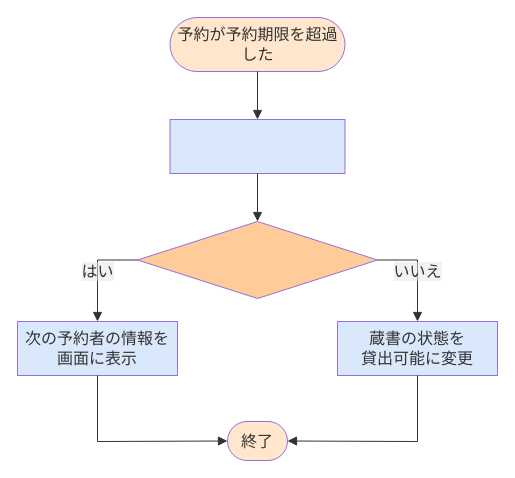
Some shapes in this 515 by 478 pixel diagram are drawn without their labels. Each missing label, with the centre of its shape:
予約をデータベース から削除: the point at 257,146
蔵書に次の予約者がいるか？: the point at 257,259
